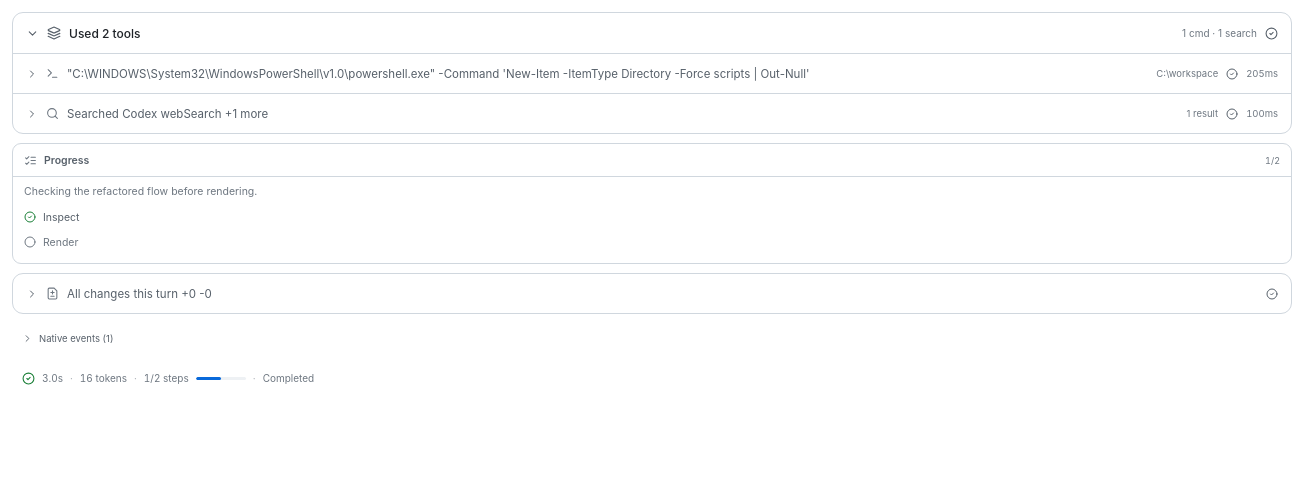
it: CodexTranscriptRenderer › shows an empty aggregate without a stale diff when the turn is completed
The width and height of the screenshot is (1304, 486).
What coordinates should you click on to do the following:
click the button with class "codex-native-activity-header" showing "All changes this turn +0 -0"
I would click on:
 (139, 294)
Its box is x1=13 y1=274 x2=1291 y2=313.
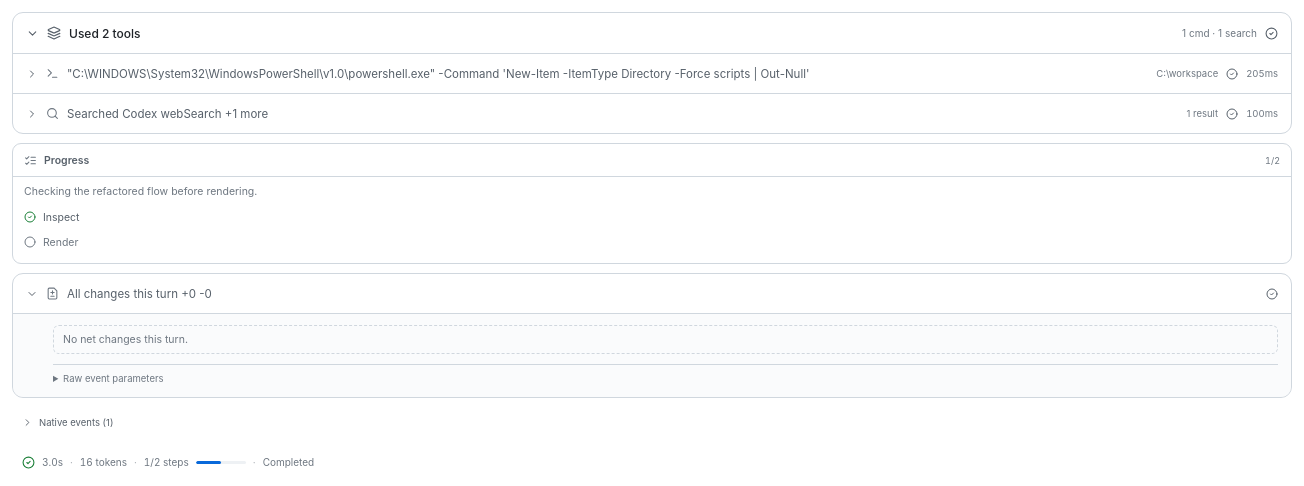
Result: the element with class "codex-native-turn-diff" shows "No net changes this turn." at x1=63 y1=333 x2=188 y2=346
